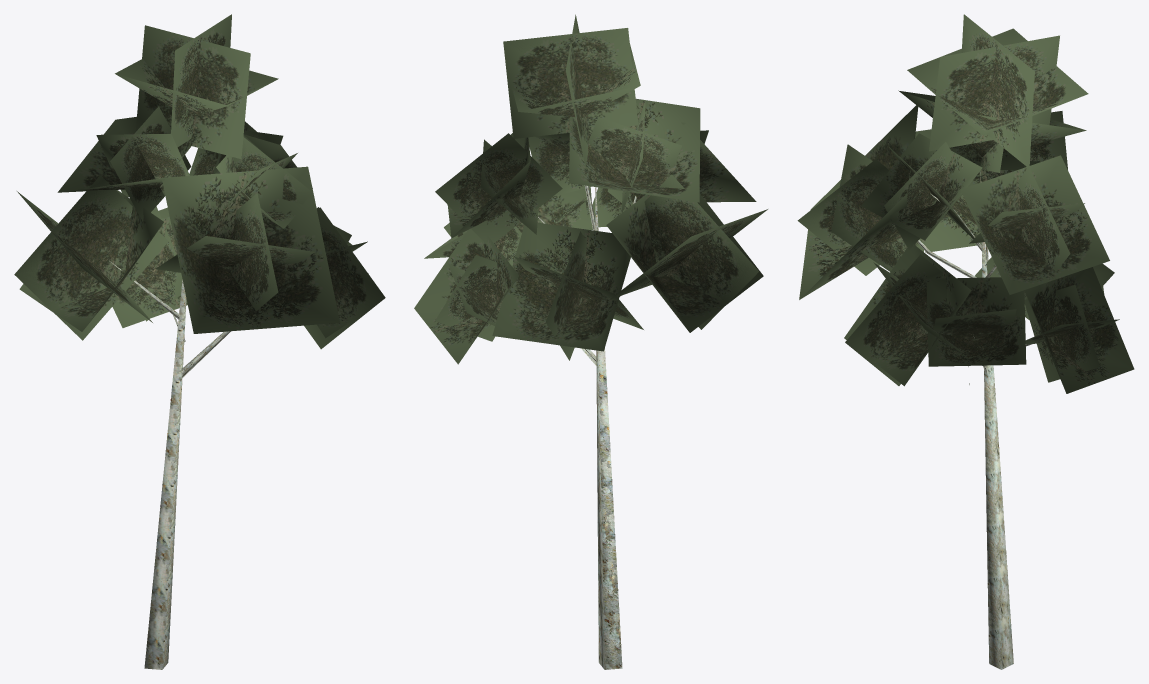
Rendered from ever_eucalyptus_short_l2.fbx.
3 views of the same model, side by side, from view 1: azimuth 30°, elevation 25°; view 2: azimuth 150°, elevation 25°; view 3: azimuth 270°, elevation 25° (orthographic). The views are drawn at different scales.
Parts seen in each view (by area): view 1: mesh_node; view 2: mesh_node; view 3: mesh_node.
Part boxes in pixels (box(x1,y1,x2,y2)): mesh_node: box(14, 14, 385, 669); mesh_node: box(414, 14, 767, 669); mesh_node: box(797, 14, 1134, 669).
Size of the model in its own units: 10.61 by 19.32 by 9.07.
